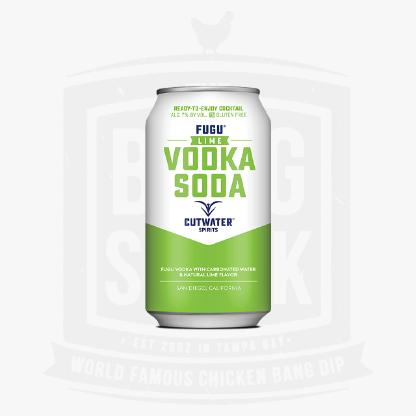Tin_Can: (139, 76, 277, 332)
